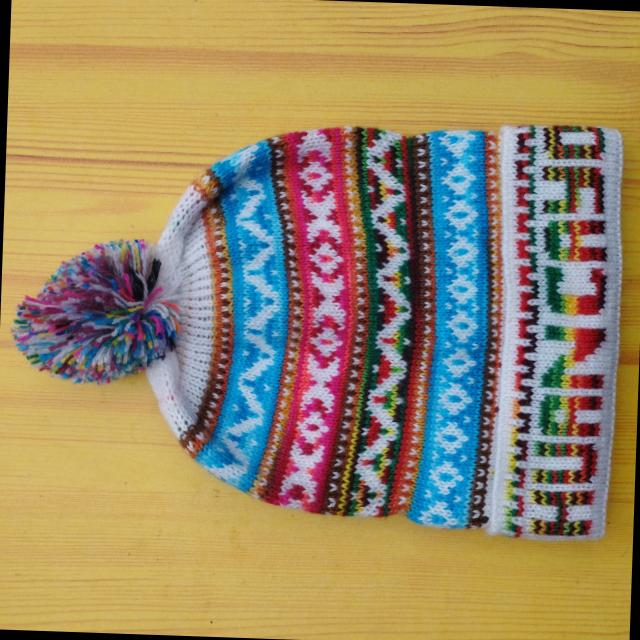Gorro: (6, 106, 627, 543)
